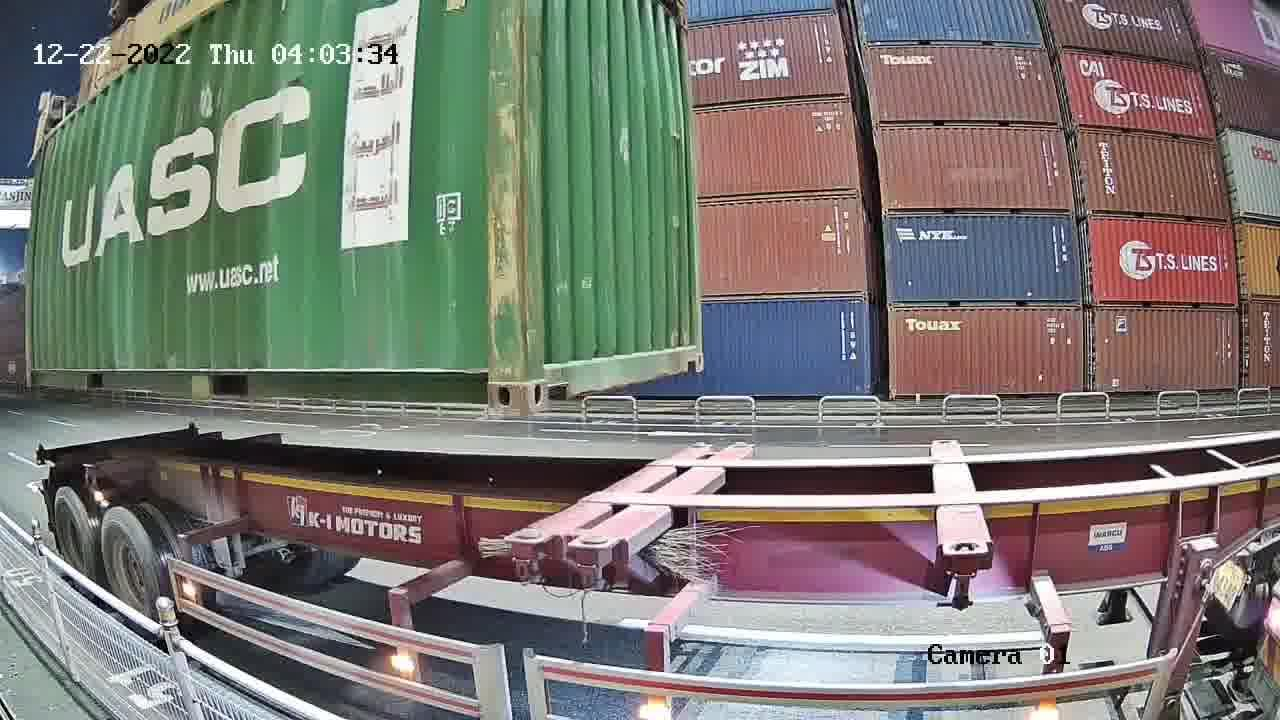Chassis: (570, 442, 759, 572), (506, 441, 719, 553)
Cone: (505, 527, 549, 586), (573, 534, 614, 592)
Hole_L: (525, 333, 580, 416)
Hole_R: (446, 336, 526, 419), (671, 329, 706, 375)
Tire: (102, 505, 160, 616), (54, 484, 91, 577)
